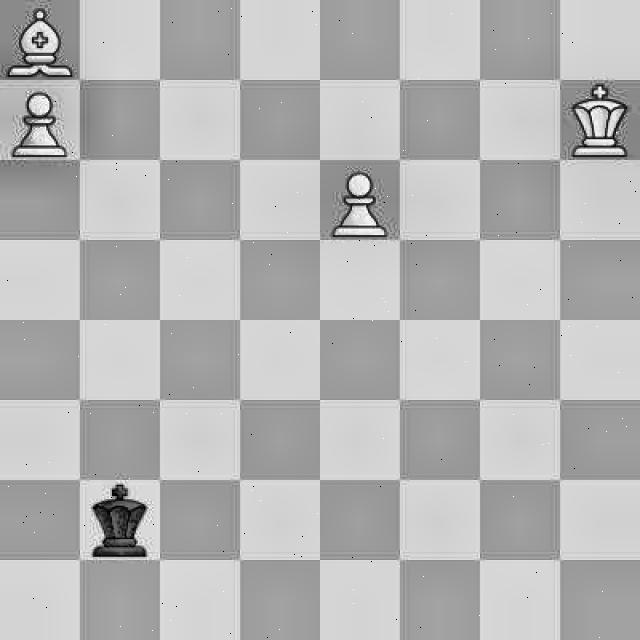black king: (84, 480, 162, 558)
white bishop: (6, 2, 74, 78)
white king: (566, 86, 636, 156)
white pawn: (8, 88, 76, 162), (329, 168, 389, 240)
